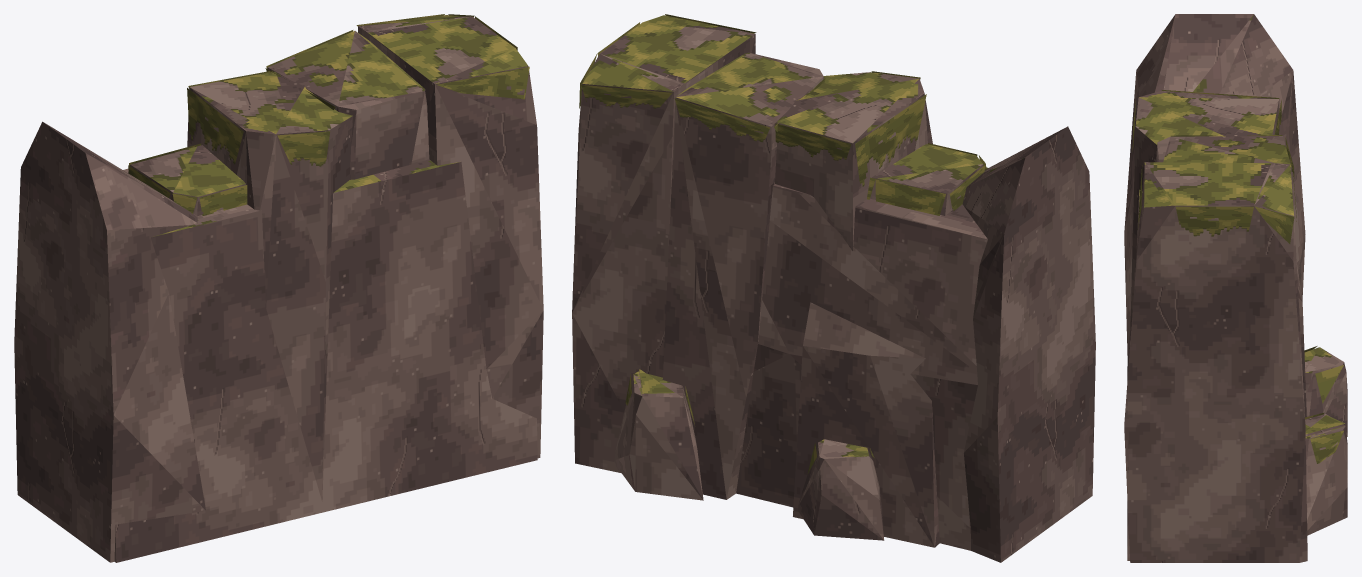
Rendered from SM_RK09_CliffWall.fbx.
3 renders of one model, left to right at view 1: azimuth 30°, elevation 25°; view 2: azimuth 150°, elevation 25°; view 3: azimuth 270°, elevation 25°, orthographic. The views are drawn at different scales.
Visible parts, largest first — view 1: RK09_Rock, RK09_RockTop, RK09_Moss; view 2: RK09_Rock, RK09_RockTop, RK09_Moss; view 3: RK09_Rock, RK09_RockTop, RK09_Moss.
Part boxes in pixels (box(x1,y1,x2,y2)): RK09_Rock: box(14, 26, 543, 562); RK09_RockTop: box(68, 15, 527, 236); RK09_Moss: box(128, 14, 529, 215); RK09_Rock: box(572, 34, 1095, 562); RK09_RockTop: box(582, 15, 1023, 458); RK09_Moss: box(579, 14, 986, 473); RK09_Rock: box(1124, 14, 1347, 562); RK09_RockTop: box(1135, 14, 1345, 438); RK09_Moss: box(1132, 90, 1344, 463).
Bounding box in the file's own units: 3.02 × 2.61 × 1.48.
